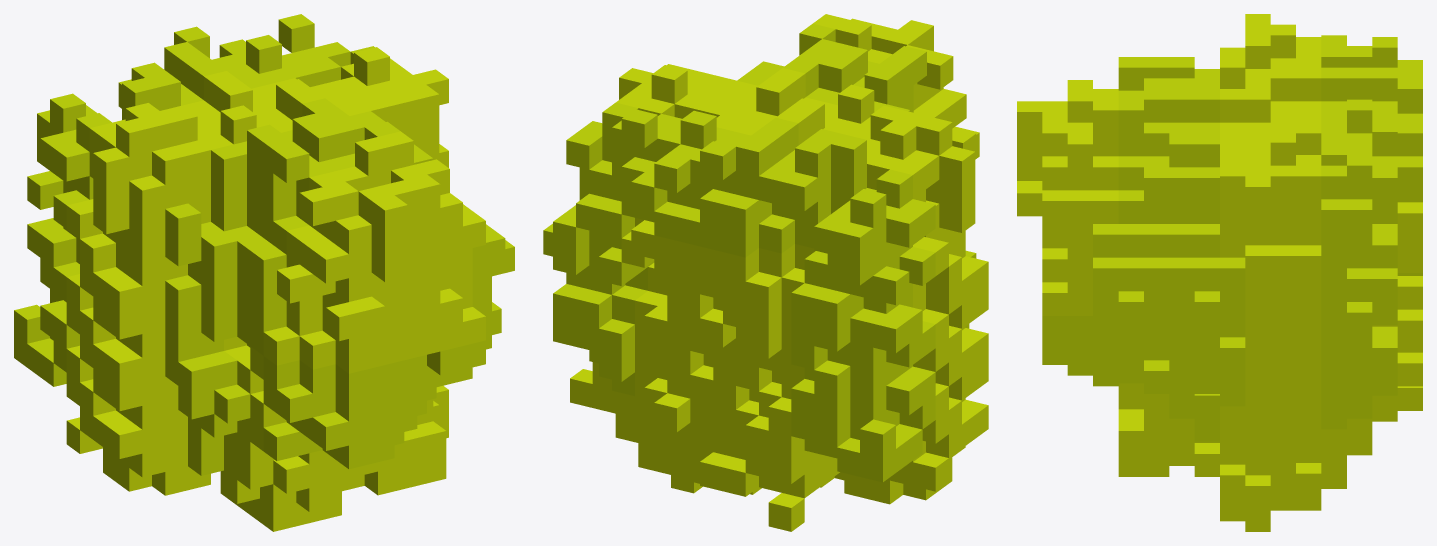
Rendered from miscitems-1.obj.
The picture shows the model from 3 angles, left to right: view 1: azimuth 30°, elevation 25°; view 2: azimuth 150°, elevation 25°; view 3: azimuth 270°, elevation 25°; orthographic projection. The views are drawn at different scales.
Visible parts, largest first — view 1: miscitems-1; view 2: miscitems-1; view 3: miscitems-1.
Boxes of the visible parts, x1=… form: miscitems-1: x1=14, y1=14, x2=514, y2=531; miscitems-1: x1=543, y1=14, x2=988, y2=531; miscitems-1: x1=1017, y1=14, x2=1422, y2=531.
Size of the model in its own units: 16 by 16 by 16.
1 material, 1 textured.
